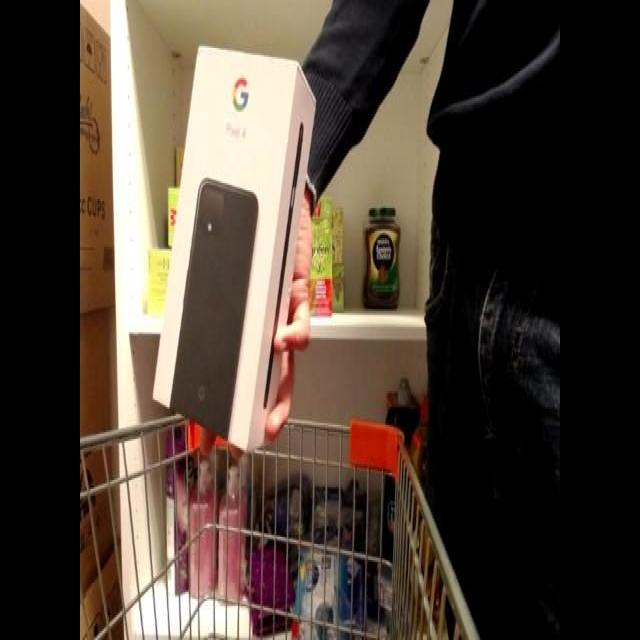Pixel 4: (148, 38, 333, 462)
